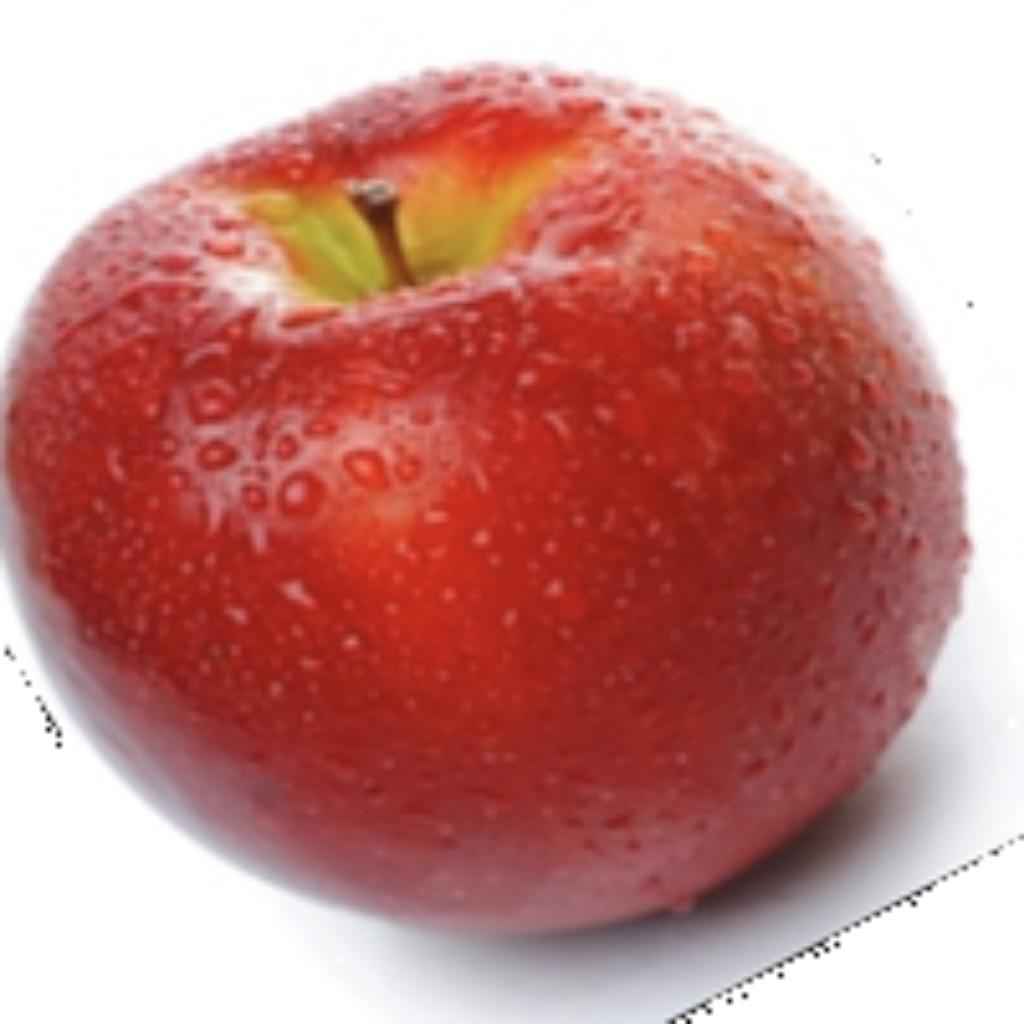apple: (0, 51, 1019, 1019)
